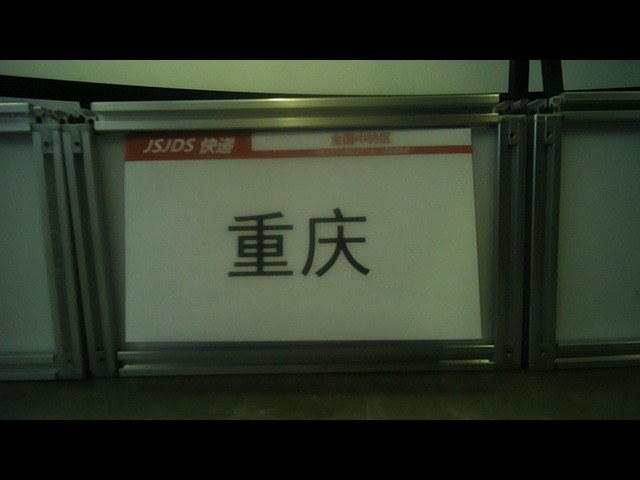chongqing: (219, 202, 377, 282)
paper: (122, 128, 484, 342)
